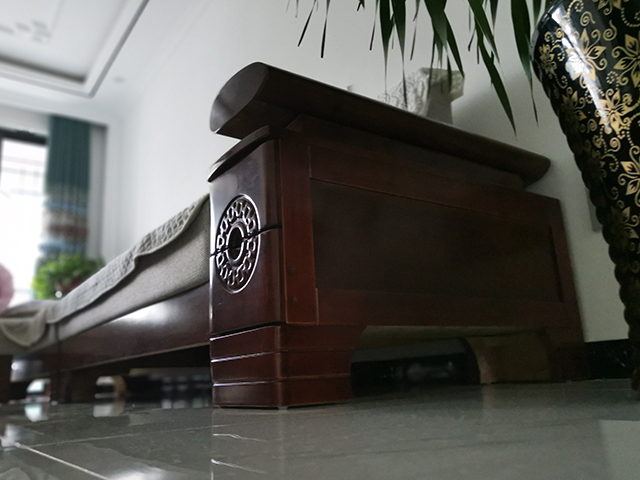sofa: (1, 57, 593, 411)
